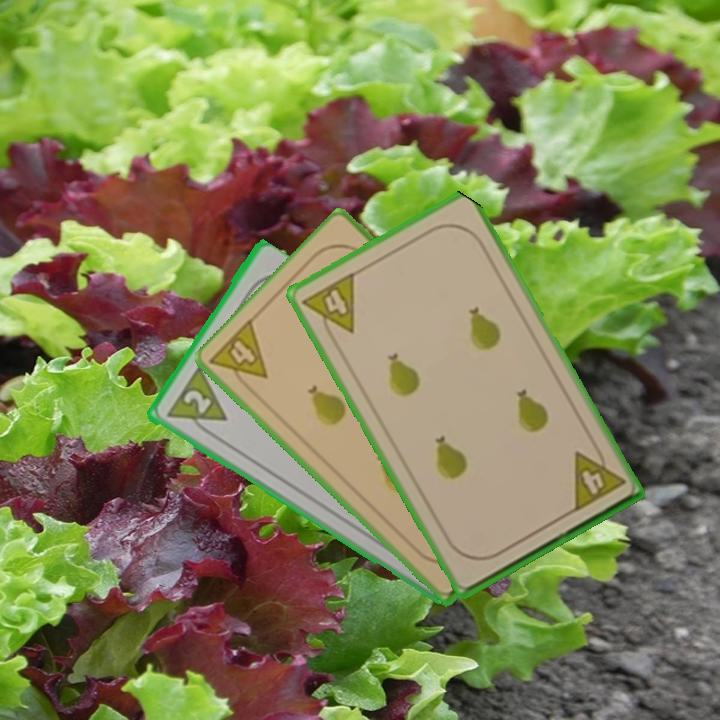2p: (179, 386, 214, 417)
4p: (206, 315, 271, 398), (299, 268, 358, 346), (569, 439, 628, 515)
